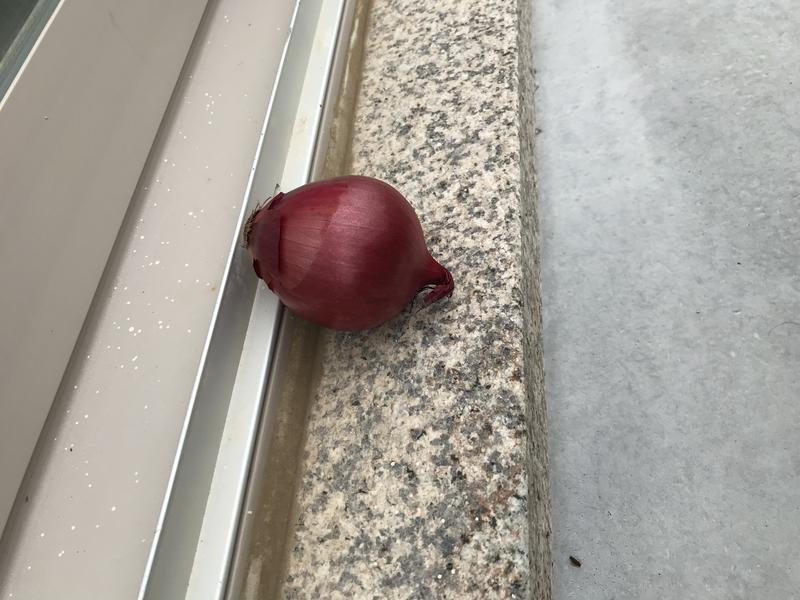purple_onion: (232, 169, 462, 334)
